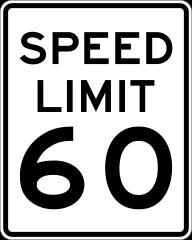Speed Limit -60-: (12, 32, 179, 216)
